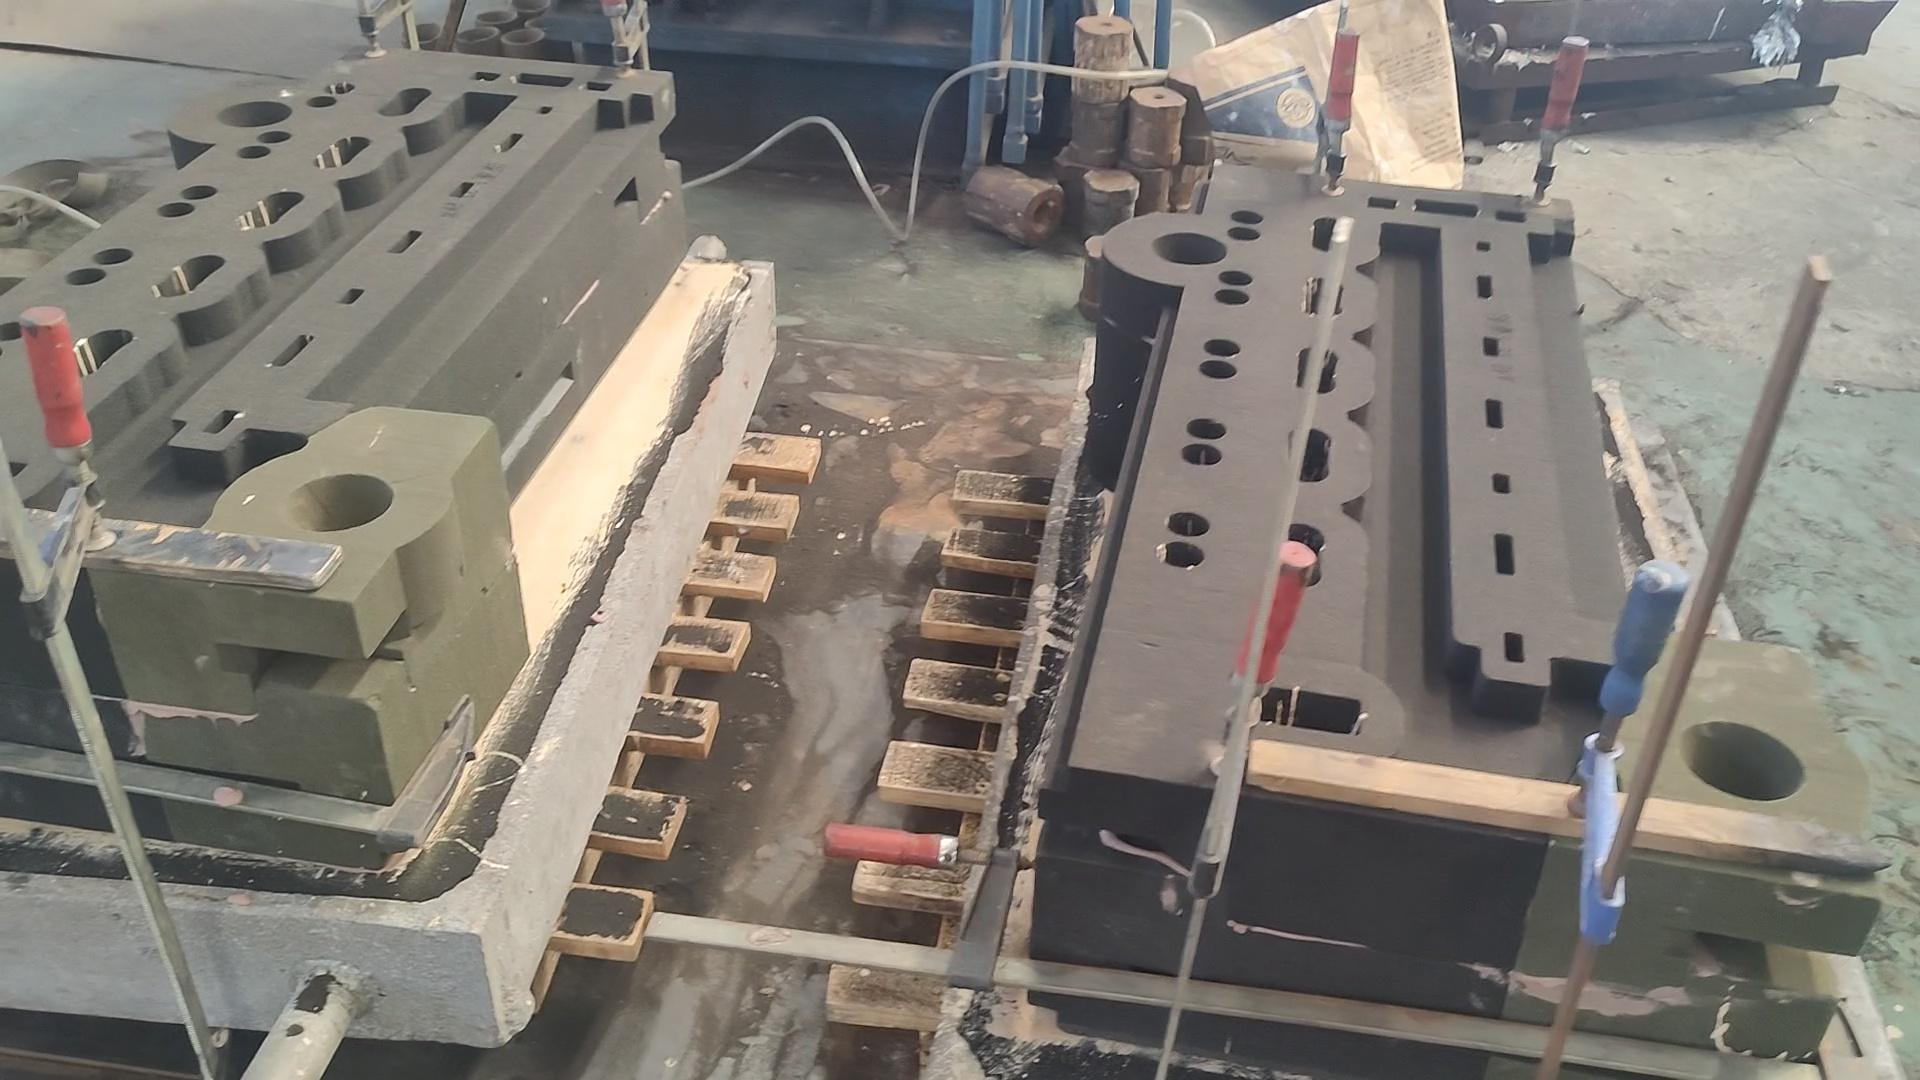pouring hole: (1677, 720, 1805, 800), (284, 473, 394, 531), (1151, 232, 1228, 266), (216, 102, 291, 128), (404, 24, 440, 42), (502, 29, 546, 44), (456, 26, 497, 41), (475, 9, 518, 22), (525, 18, 571, 29), (510, 1, 553, 11)
